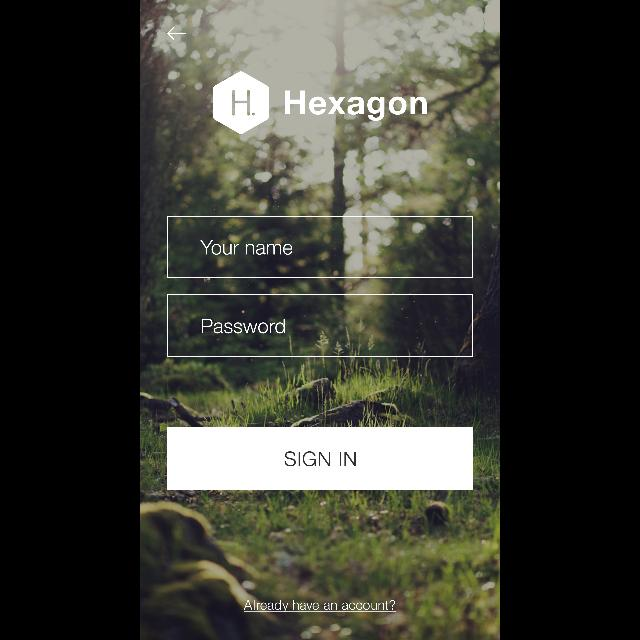backgroundimage: (140, 1, 500, 640)
icon: (167, 27, 187, 41)
image: (213, 72, 269, 134)
input: (167, 217, 473, 279), (167, 295, 473, 357)
text: (285, 90, 427, 122), (244, 600, 396, 612), (201, 240, 293, 256), (202, 318, 286, 334)
textbutton: (167, 428, 473, 490)
